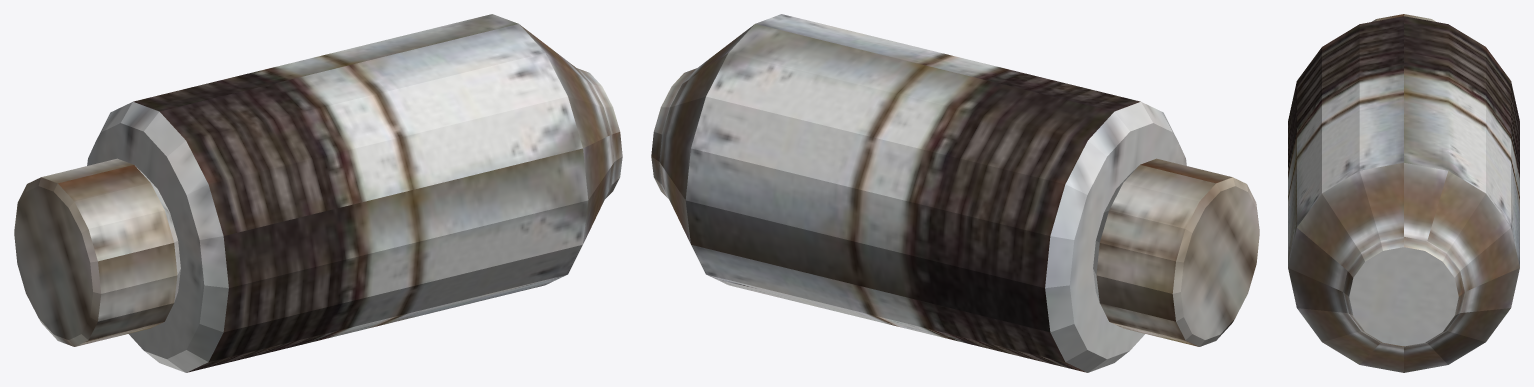
File: am_vog25.obj
The picture shows the model from 3 angles, left to right: view 1: azimuth 30°, elevation 25°; view 2: azimuth 150°, elevation 25°; view 3: azimuth 270°, elevation 25°; orthographic projection. The views are drawn at different scales.
Visible parts, largest first — view 1: Cylinder; view 2: Cylinder; view 3: Cylinder.
Boxes of the visible parts, x1=… form: Cylinder: x1=14, y1=14, x2=622, y2=372; Cylinder: x1=651, y1=14, x2=1259, y2=372; Cylinder: x1=1288, y1=14, x2=1519, y2=372.
Size of the model in its own units: 4.46 by 2 by 2.
